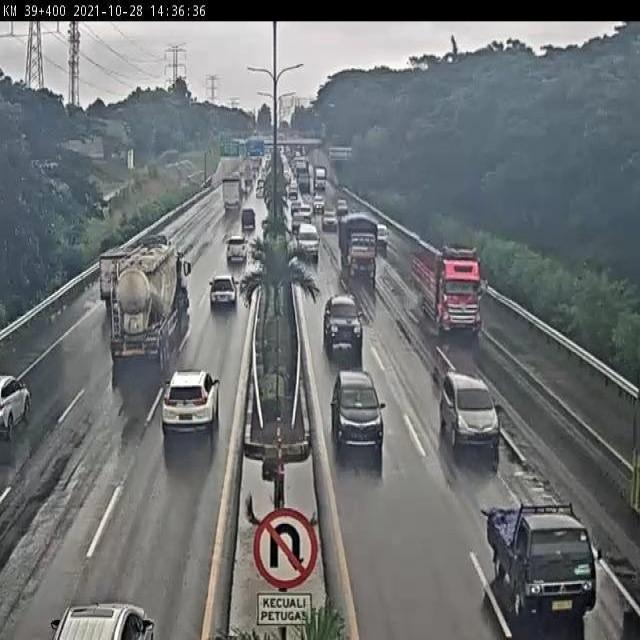truck-m-: (413, 243, 481, 332), (337, 208, 379, 276)
truck-xl-: (108, 248, 190, 360)
